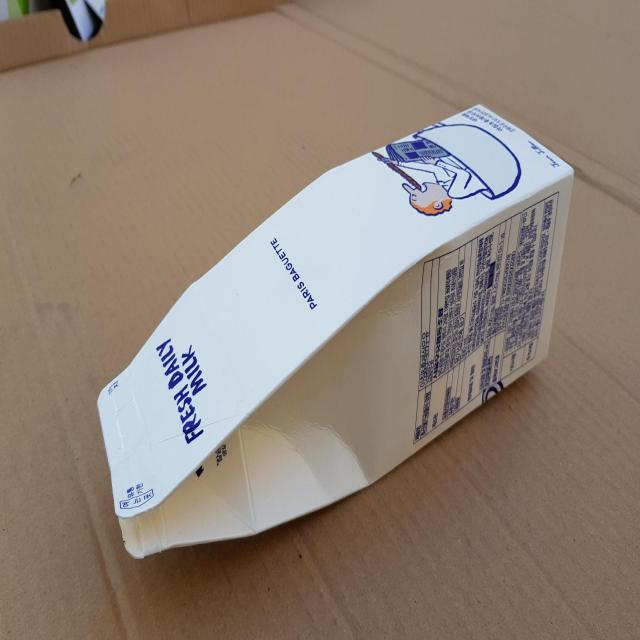paperpack: (97, 103, 575, 559)
